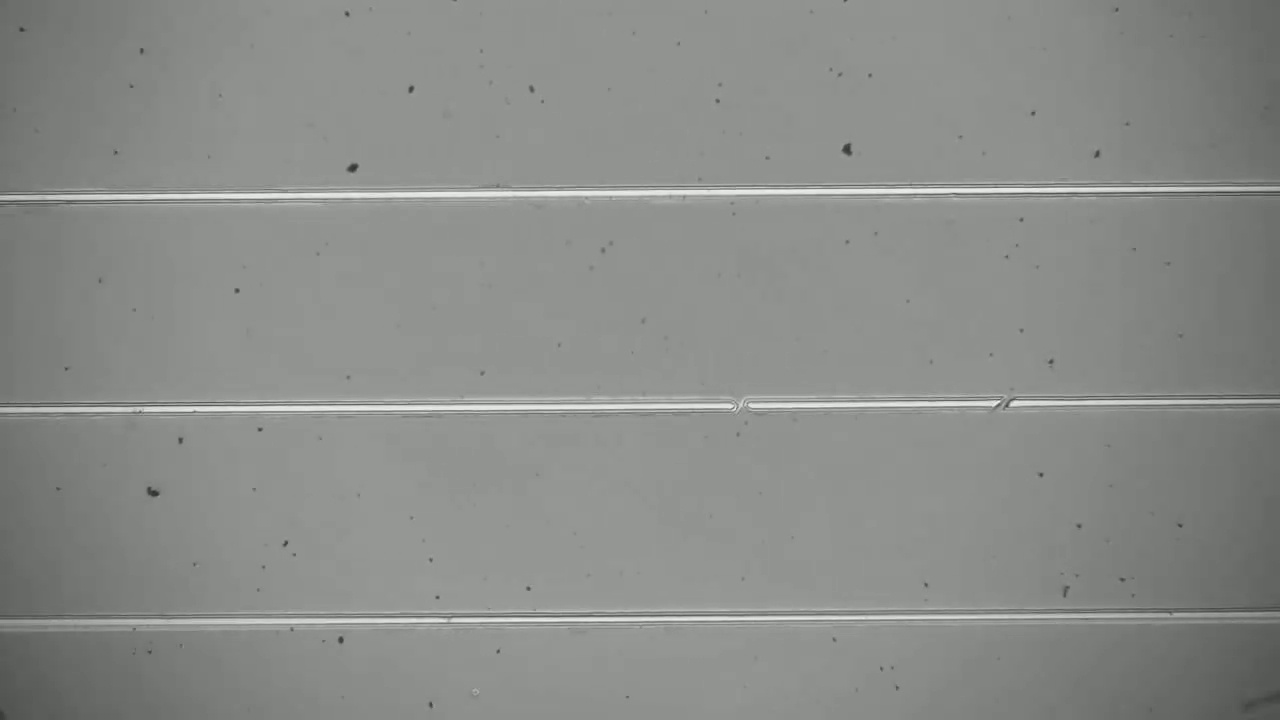open: (978, 387, 1027, 425), (722, 389, 767, 427)
